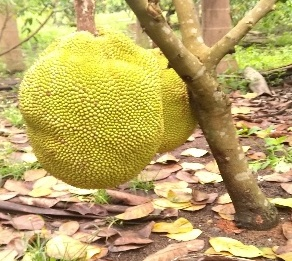Mit: (17, 33, 196, 190)
